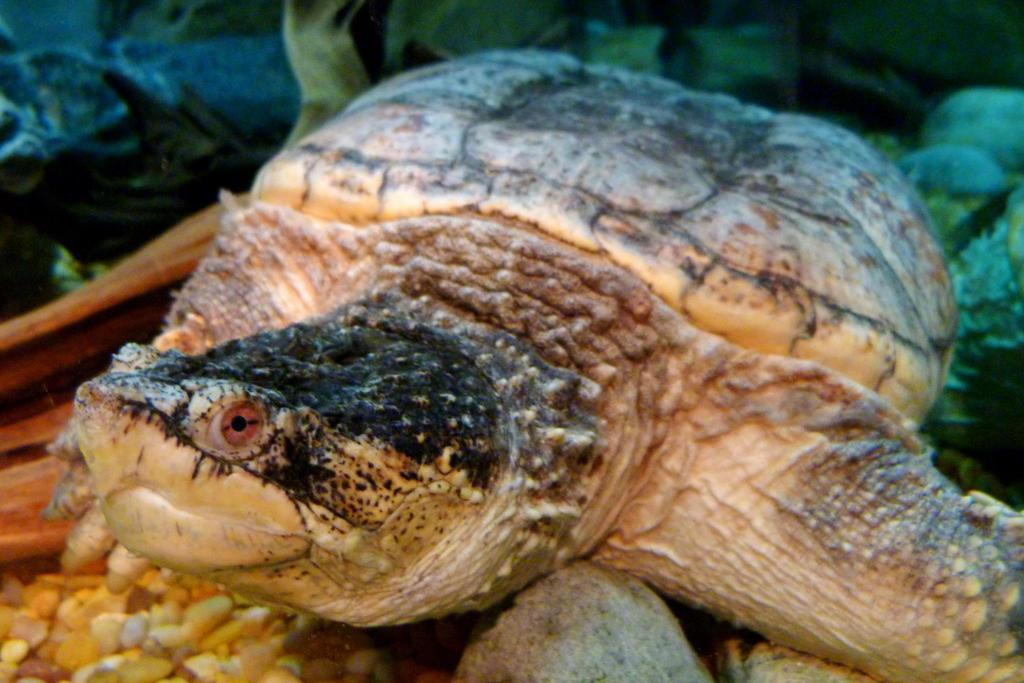Sea turtles: (37, 37, 1023, 682)
